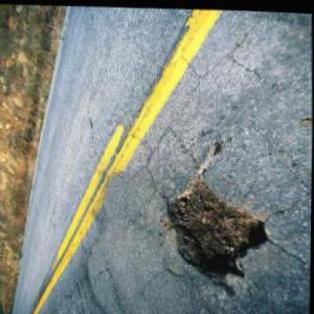Hueco: (161, 166, 274, 296)
